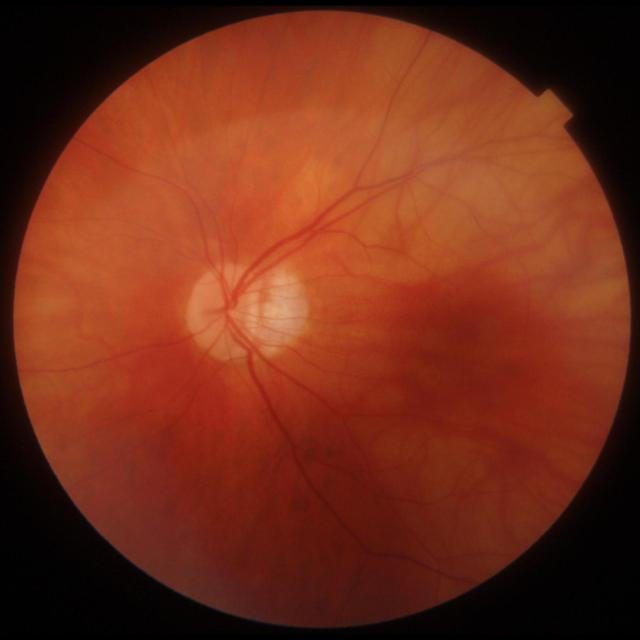OD: (187, 266, 256, 358)
